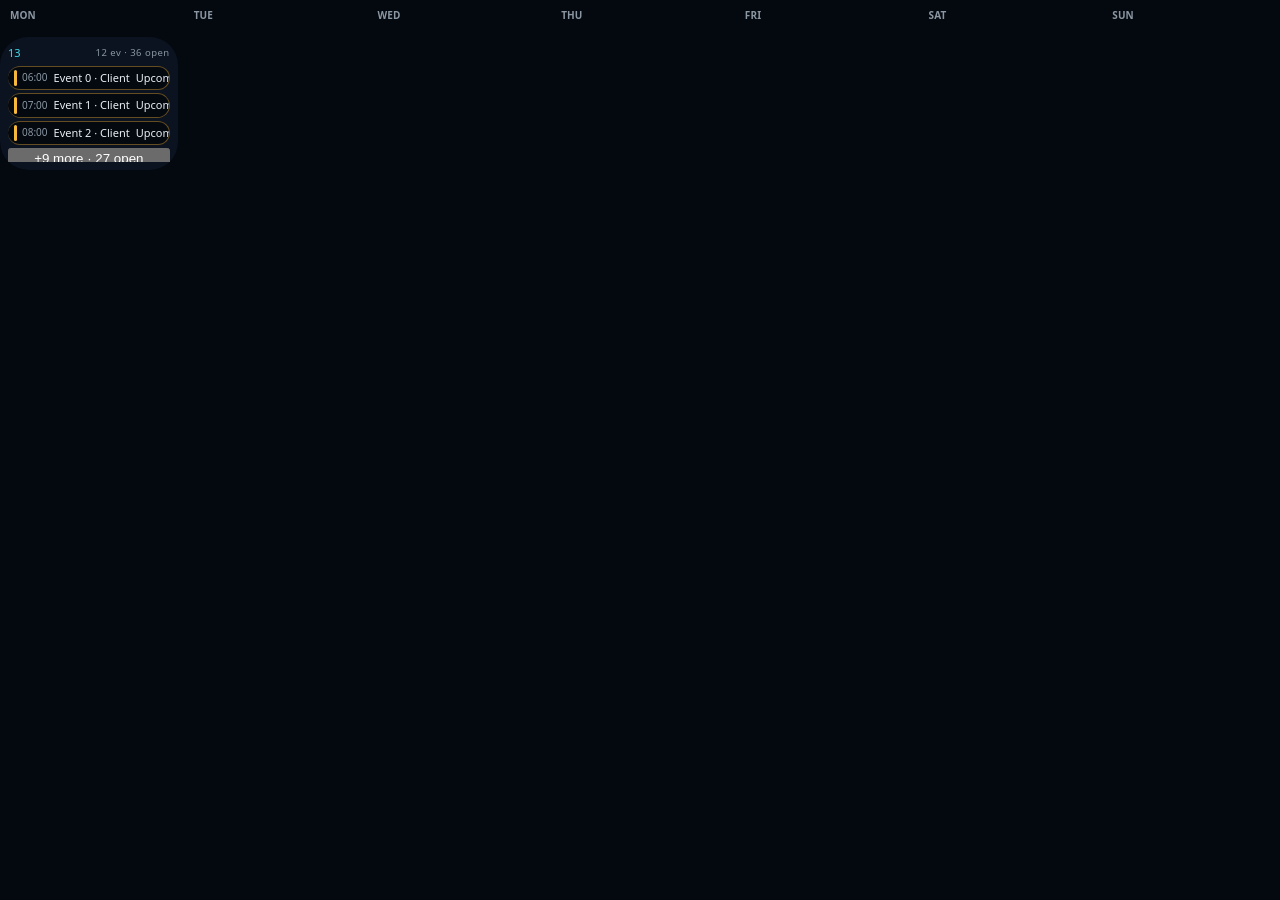
Test: the day popup (ADR-0096) › opens from "+N more" with every event of the day, a day-view link and Close
The width and height of the screenshot is (1280, 900).
Click the button with class "evmore": click(89, 158) [8,148,170,169]
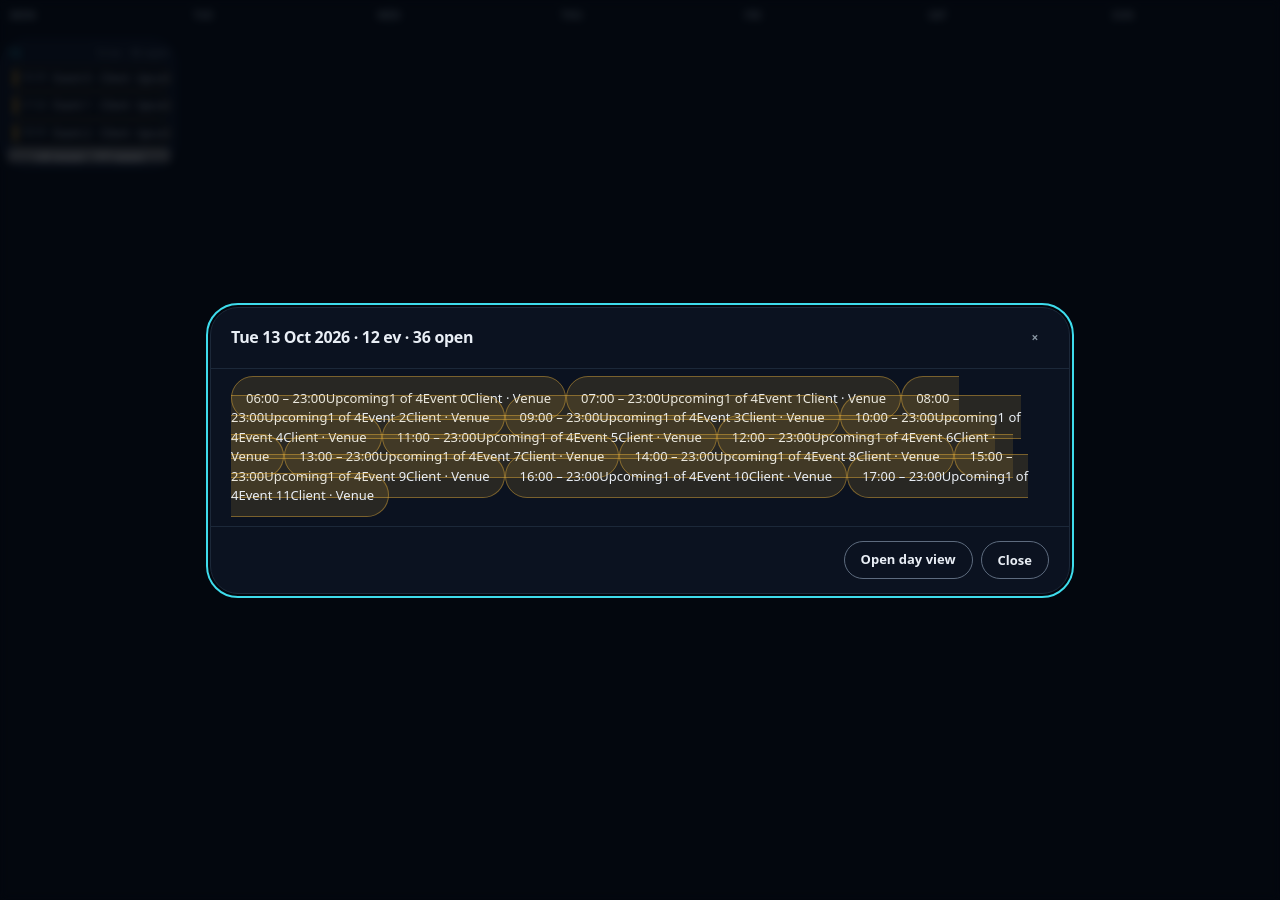
Result: the number of links with class "wchip" is 12
Result: the dialog shows "12 ev · 36 open" at [231,326,473,348]
Result: the link "Open day view" is shown at [844,540,973,578]
Click the button "Close": click(1015, 560) [981,540,1049,578]
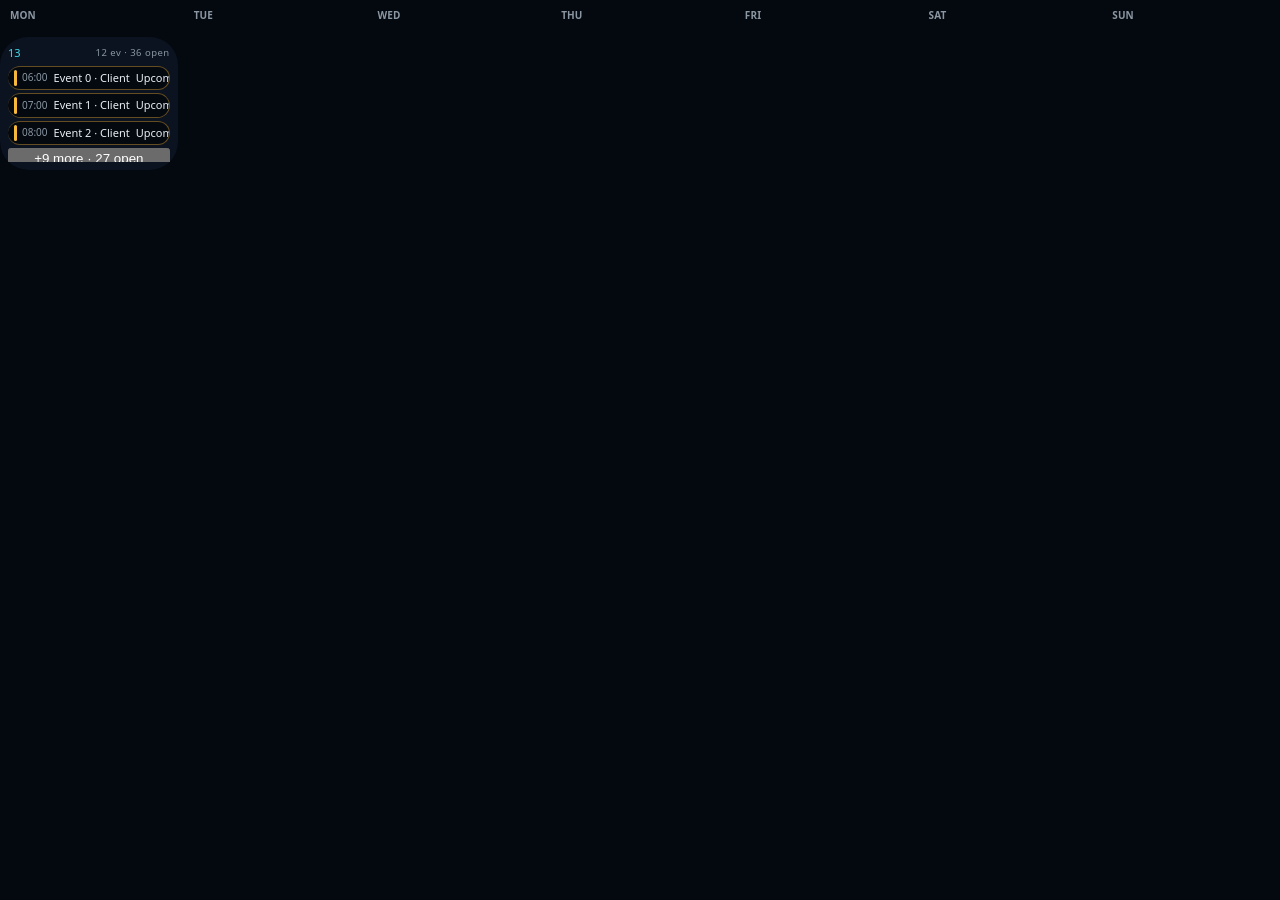
Result: the dialog is gone
